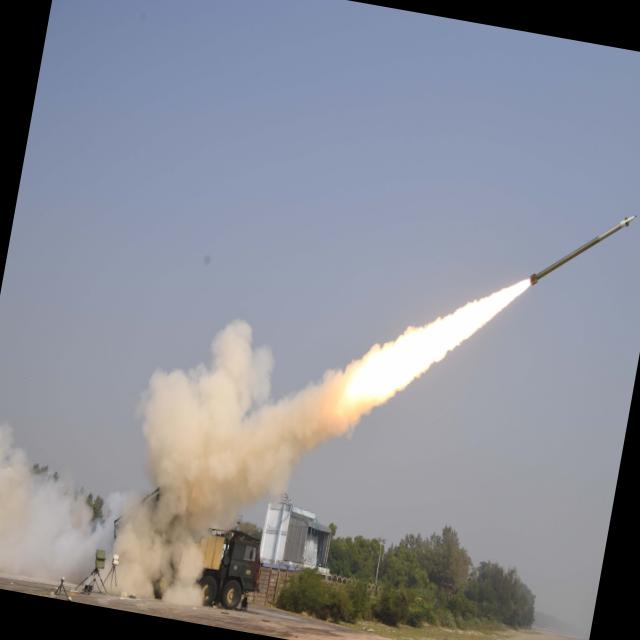rocket: (347, 172, 637, 464)
